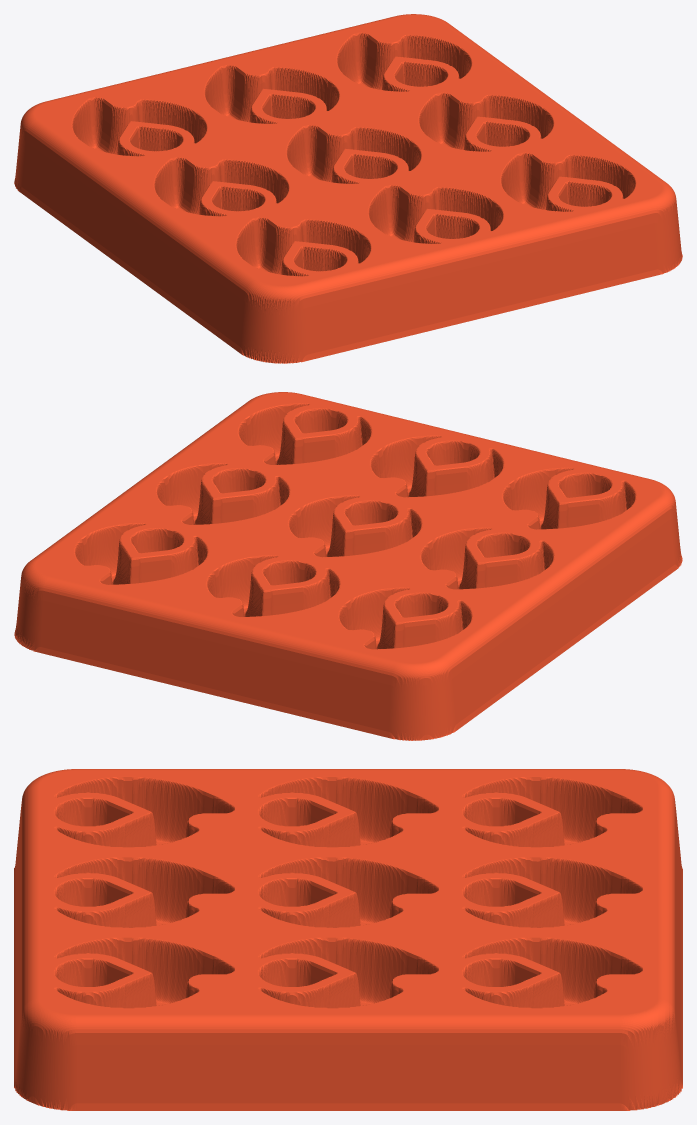
File: mold.glb
The picture shows the model from 3 angles, top to bottom: view 1: azimuth 30°, elevation 25°; view 2: azimuth 150°, elevation 25°; view 3: azimuth 270°, elevation 25°; orthographic projection. The views are drawn at different scales.
Visible parts, largest first — view 1: geometry_0; view 2: geometry_0; view 3: geometry_0.
Part boxes in pixels (x1,y1,x2,y2): geometry_0: (14,14,682,363); geometry_0: (14,392,682,740); geometry_0: (14,769,682,1110).
Bounding box in the file's own units: 0.0904 × 0.0136 × 0.0964.
